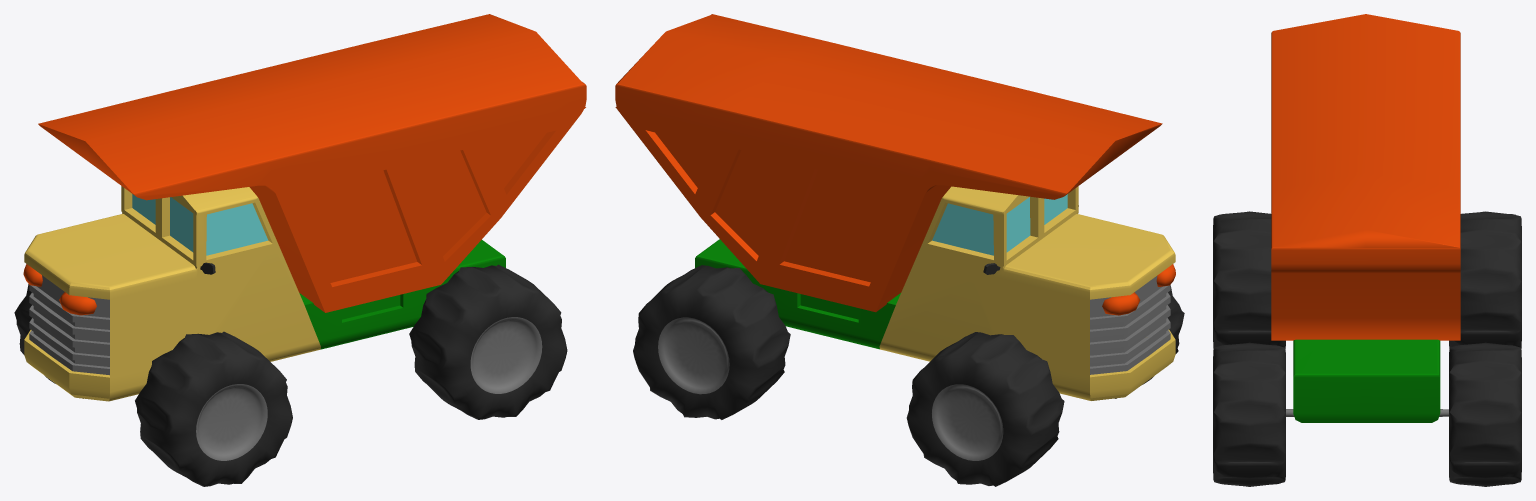
Rendered from truck.fbx.
The picture shows the model from 3 angles, left to right: view 1: azimuth 30°, elevation 25°; view 2: azimuth 150°, elevation 25°; view 3: azimuth 270°, elevation 25°; orthographic projection. The views are drawn at different scales.
Visible parts, largest first — view 1: pCylinder7; view 2: pCylinder7; view 3: pCylinder7.
Boxes of the visible parts, box(x1,y1,x2,y2) form: pCylinder7: box(14, 14, 586, 486); pCylinder7: box(615, 14, 1184, 486); pCylinder7: box(1213, 14, 1521, 486).
Size of the model in its own units: 7.33 by 4.38 by 4.06.
